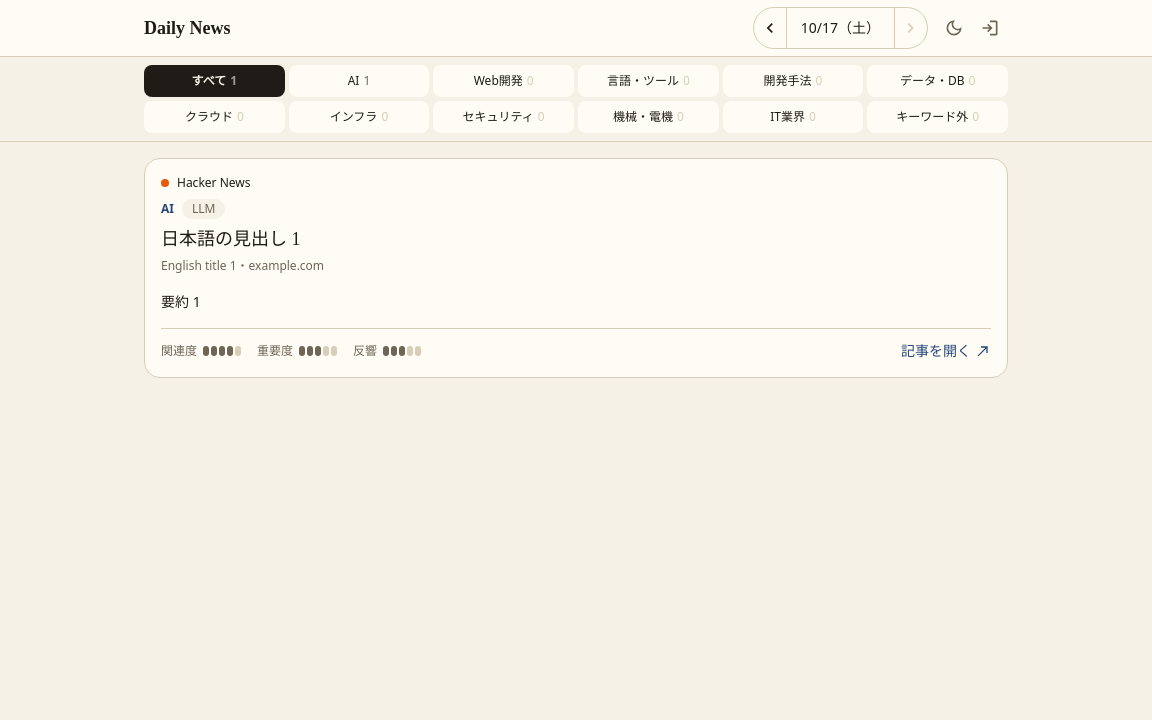
Test case: カレンダー › 日を選ぶとその日の一覧を読んで、閉じる
Check: the link "日本語の見出し 1" is shown, box [161, 229, 300, 249]
Step 1. Click the button "10/17（土）" → (840, 28), box [786, 8, 895, 48]
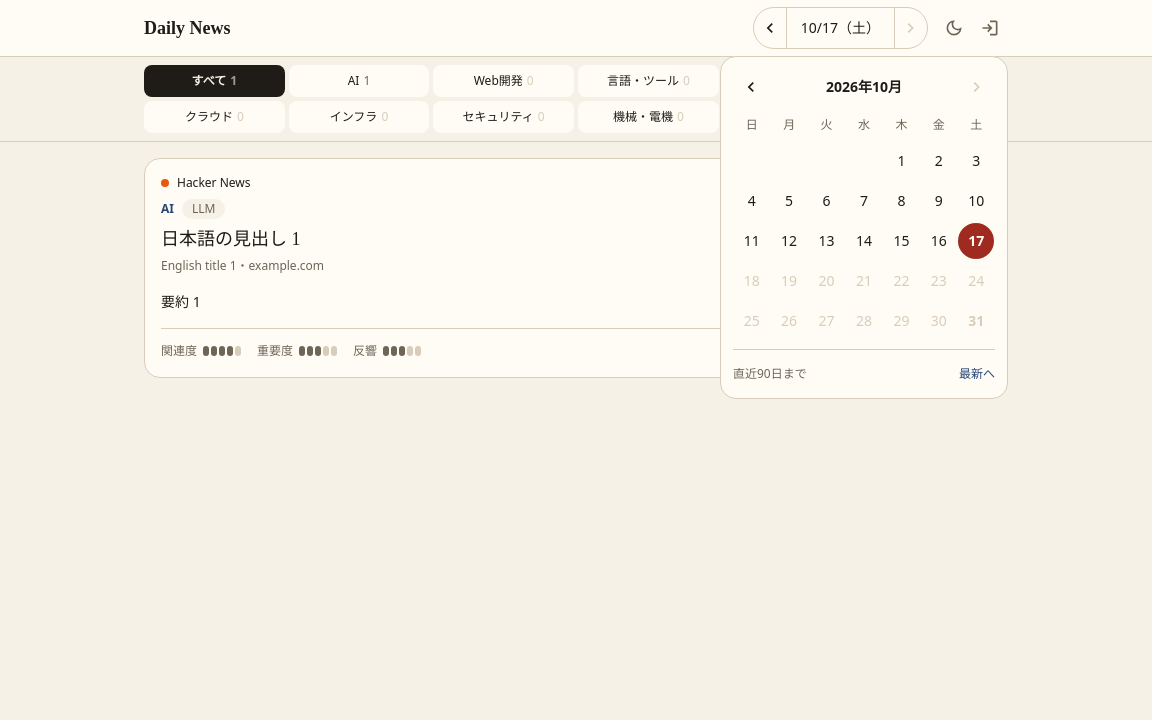
Step 2. Click the button named "10月16日" → (939, 241), box [921, 223, 957, 259]
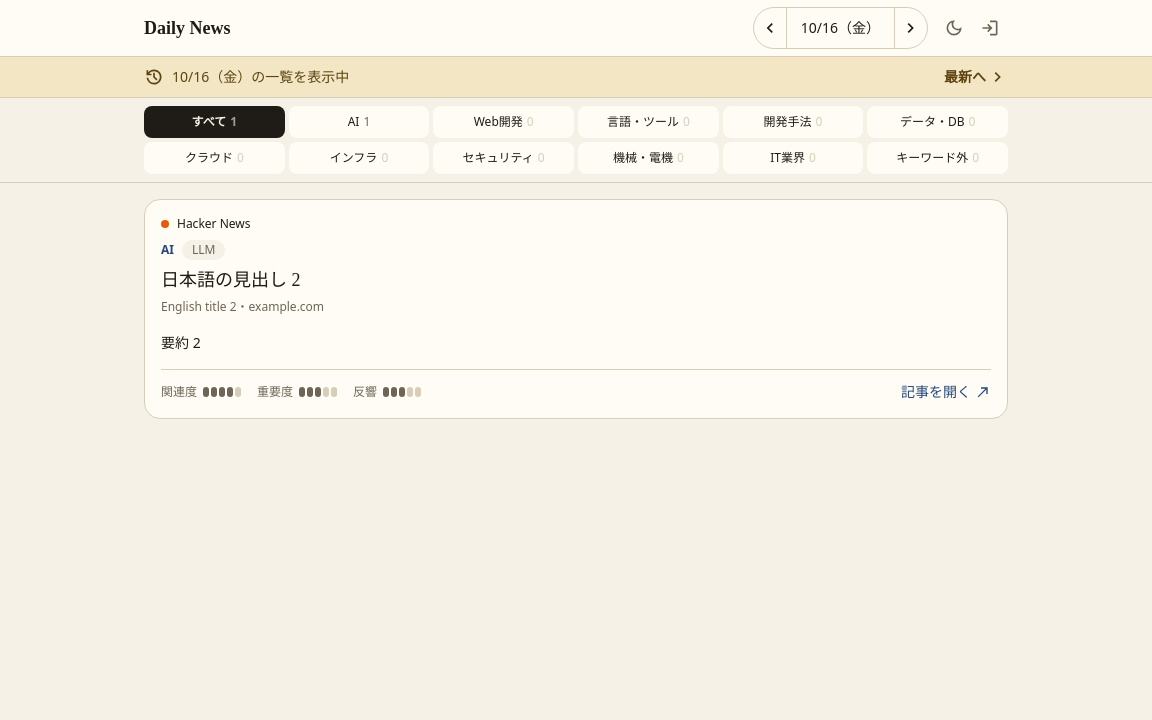
Check: the link "日本語の見出し 2" is shown, box [161, 270, 300, 290]
Check: the dialog "カレンダー" is gone
